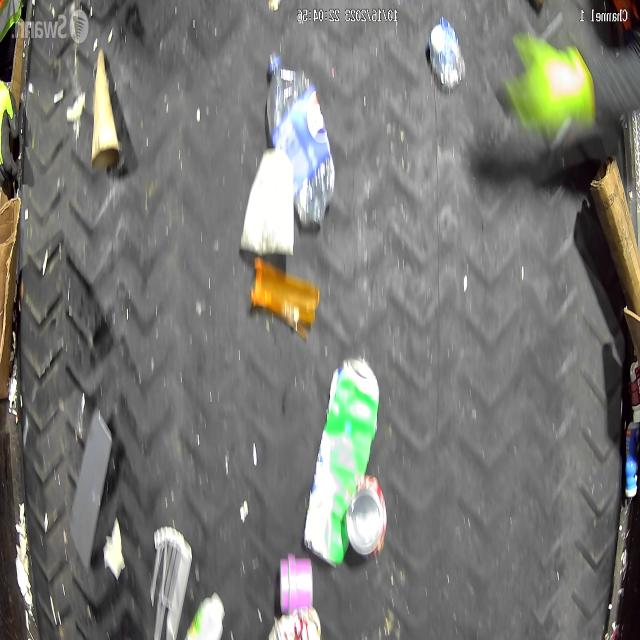plastic_bottle: (266, 44, 335, 235), (346, 472, 388, 566)
